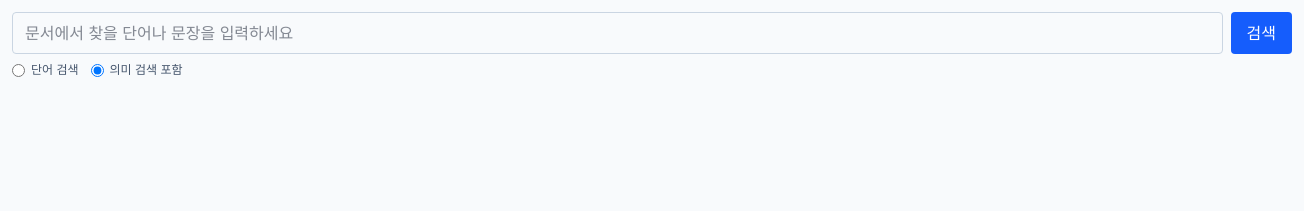
Test: DocumentSearch › 의미 검색이 비활성 상태이고 결과가 있으면 단어 검색 결과임을 알린다
Type "심장" into the search field at (617, 33), box [12,12,1222,54]
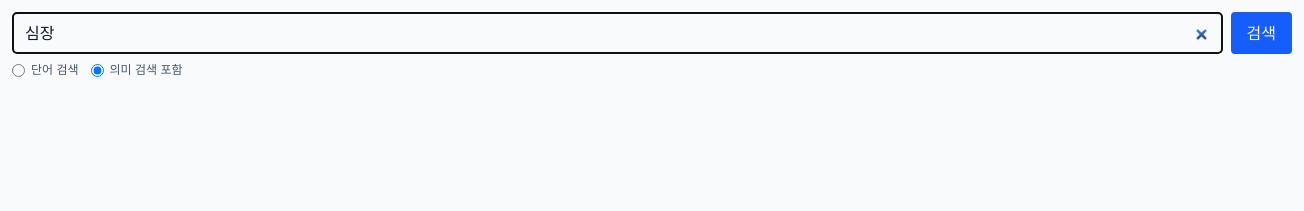
Click the button "검색" at (1261, 33), box [1230,12,1292,54]
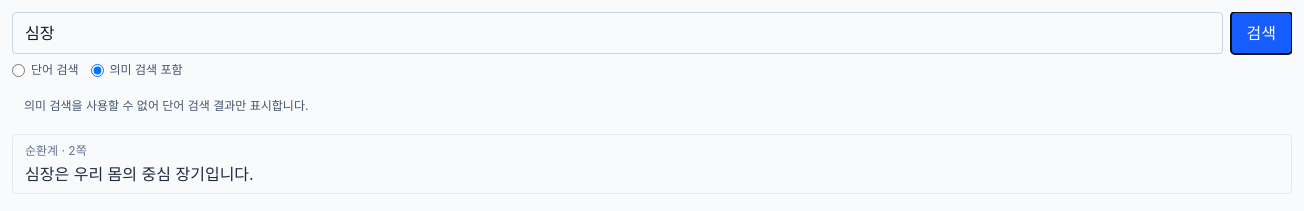
Now the text "의미 검색을 사용할 수 없어 단어 검색 결과만 표시합니다." is shown, box [12,90,1292,122]
